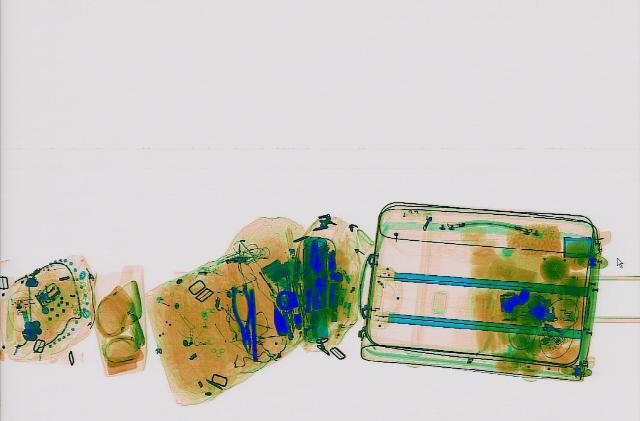Pliers: (226, 281, 260, 353)
